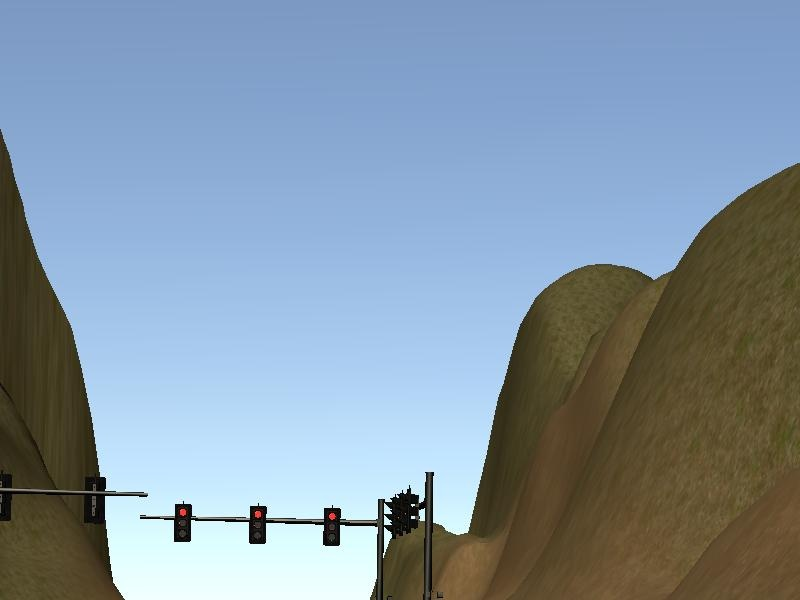red: (172, 502, 193, 541), (324, 505, 342, 547), (250, 505, 266, 544)
